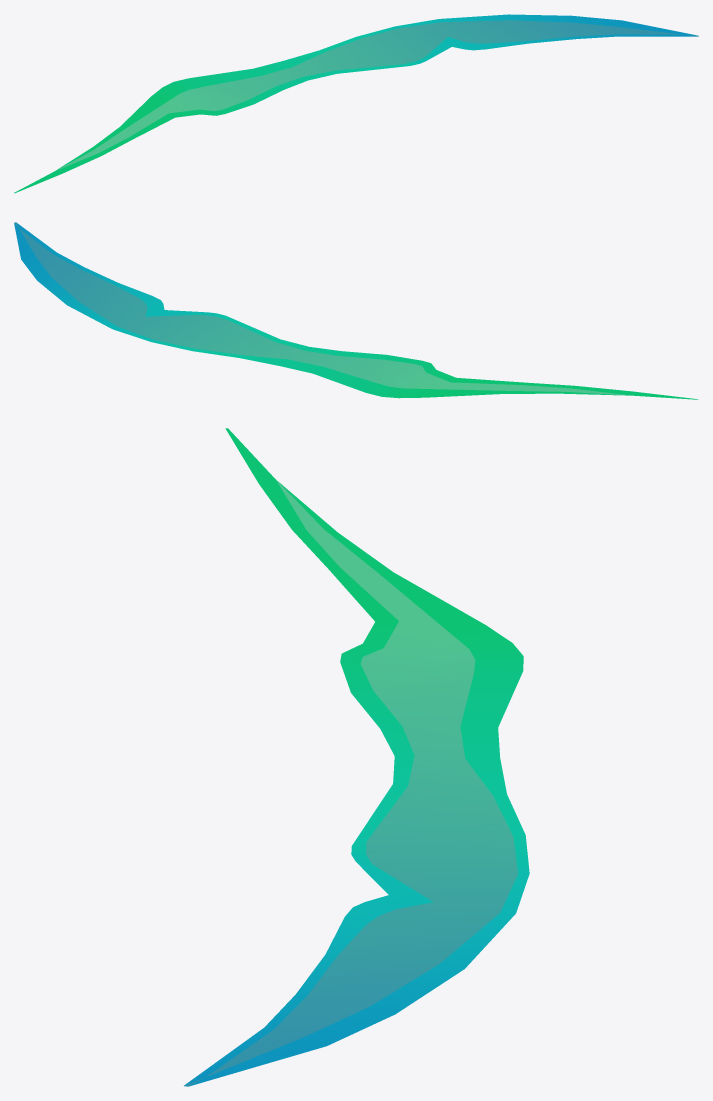
Rendered from SM_ Shining_line_01.fbx.
3 views of the same model, one above another, from view 1: azimuth 30°, elevation 25°; view 2: azimuth 150°, elevation 25°; view 3: azimuth 270°, elevation 25° (orthographic). The views are drawn at different scales.
Visible parts, largest first — view 1: SM_ Shining_line_01; view 2: SM_ Shining_line_01; view 3: SM_ Shining_line_01.
Boxes of the visible parts, left/top/right/bottom form: SM_ Shining_line_01: left=14, top=14, right=698, bottom=193; SM_ Shining_line_01: left=14, top=222, right=698, bottom=399; SM_ Shining_line_01: left=184, top=428, right=529, bottom=1086.
Bounding box in the file's own units: 25.8 × 2.78e-07 × 5.74.
